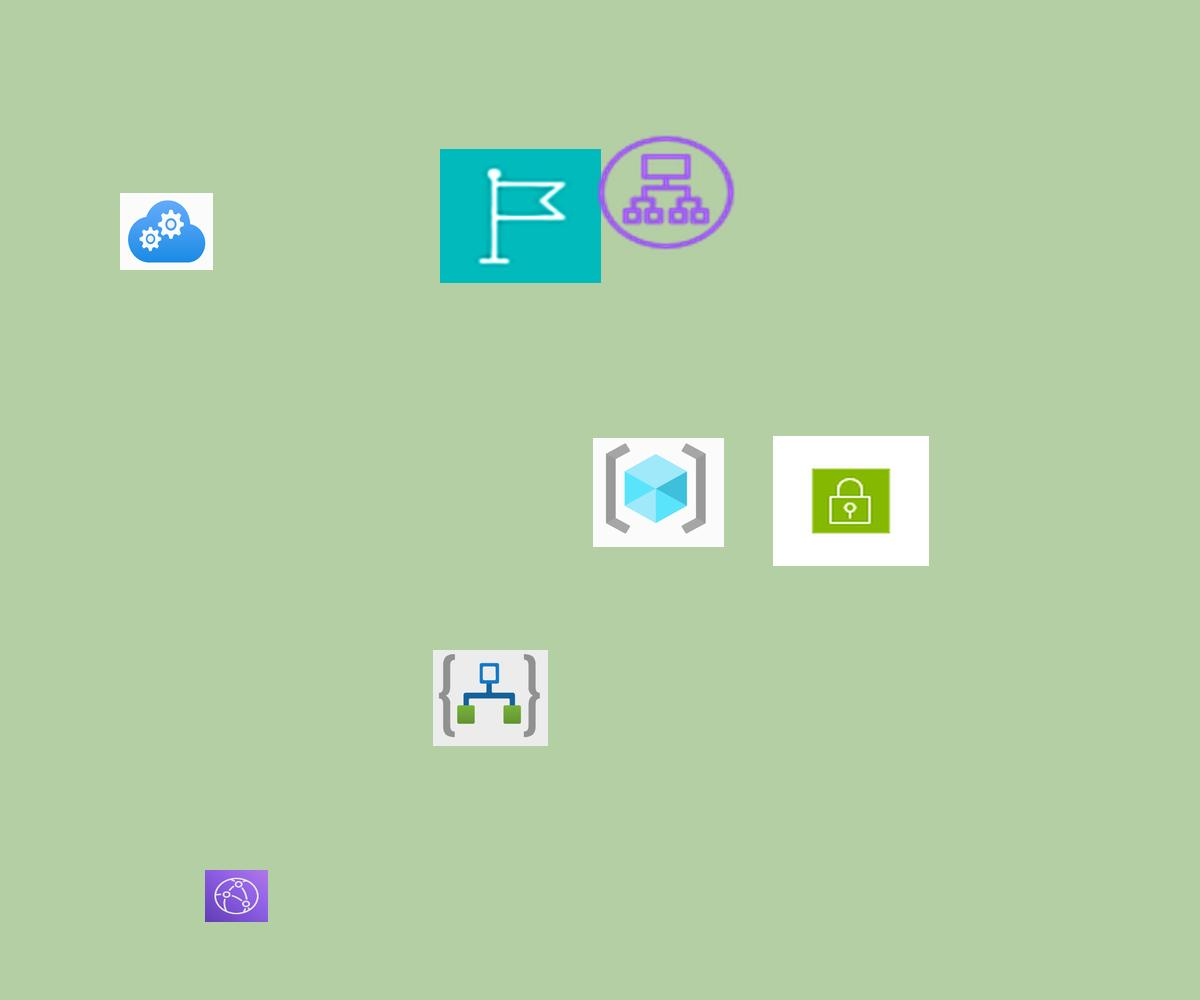AWS-CloudFront: (205, 870, 268, 922)
AWS-Public-subnet: (773, 436, 929, 566)
AWS-Region: (440, 149, 601, 283)
AWS-Res_Elastic-Load-Balancing_Application-Load-Balancer: (592, 131, 740, 254)
Azure_cloud_services: (120, 193, 213, 270)
Azure_integration-204-Logic-Apps: (433, 650, 548, 746)
Azure_resource_group: (593, 438, 724, 547)
